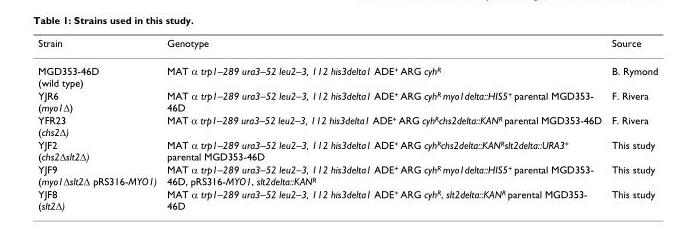table: (37, 36, 657, 211)
table column: (161, 36, 605, 211), (37, 36, 161, 211), (605, 36, 657, 211)
table column header: (37, 36, 657, 56)
table row: (37, 56, 657, 88), (37, 112, 657, 137), (37, 137, 657, 162), (37, 186, 657, 211), (37, 88, 657, 112), (37, 162, 657, 186), (37, 36, 657, 56)
